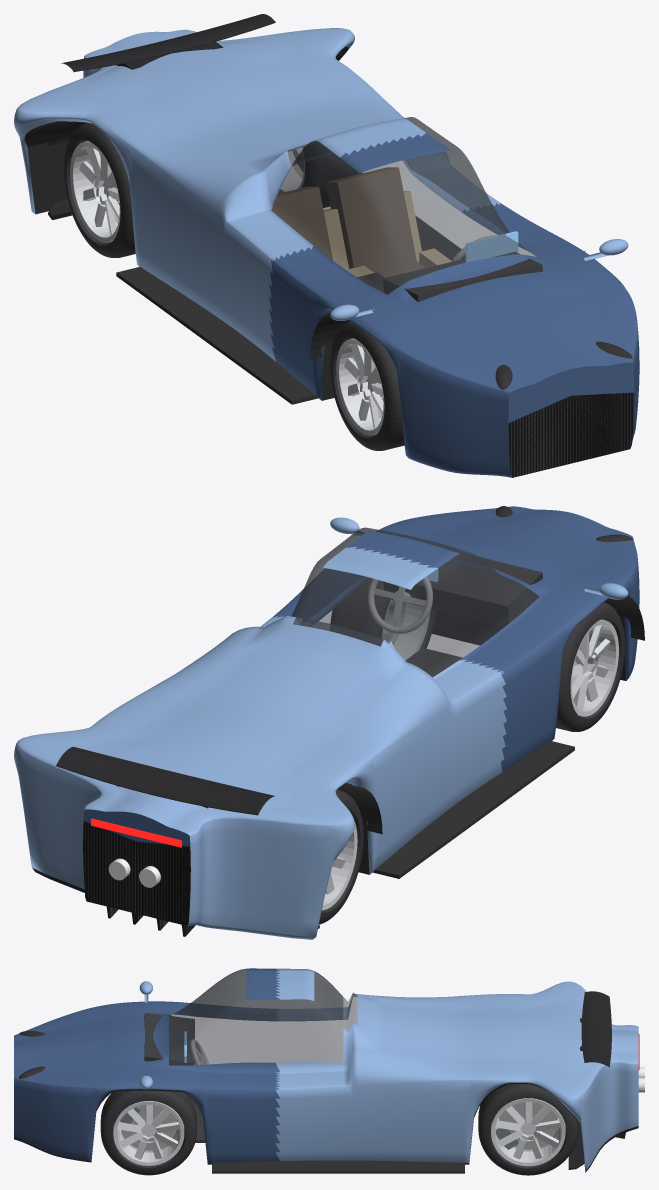
The model's file is bugatti-veyron.glb.
3 renders of one model, top to bottom at view 1: azimuth 30°, elevation 25°; view 2: azimuth 150°, elevation 25°; view 3: azimuth 270°, elevation 25°, orthographic. The views are drawn at different scales.
Visible parts, largest first — view 1: Body_PrimaryPaint, Body_SecondaryPaint, Glass_Windows, Carbon_Exterior, Interior_Seats, WheelWells, Rim_RR, Tire_FR, Rim_FR, Tire_RR, Underbody, Interior_Dashboard (+4 smaller); view 2: Body_PrimaryPaint, Body_SecondaryPaint, Glass_Windows, Carbon_Exterior, WheelWells, Interior_Dashboard, Rim_FR, Tire_FR, Underbody, Tire_FL, Interior_SteeringWheel, Rim_RR (+5 smaller); view 3: Body_PrimaryPaint, Body_SecondaryPaint, Glass_Windows, Tire_FL, Rim_RL, Tire_RL, WheelWells, Rim_FL, Carbon_Exterior, Interior_Dashboard, Underbody, BrakeDisc_RL (+2 smaller).
Part boxes in pixels (<box>): Body_PrimaryPaint: <box>14,28,628,361</box>; Body_SecondaryPaint: <box>269,133,639,477</box>; Glass_Windows: <box>271,117,536,294</box>; Carbon_Exterior: <box>48,14,634,477</box>; Interior_Seats: <box>271,167,425,277</box>; WheelWells: <box>47,121,585,404</box>; Rim_RR: <box>70,141,120,242</box>; Tire_FR: <box>330,321,404,450</box>; Rim_FR: <box>336,338,384,435</box>; Tire_RR: <box>63,123,135,257</box>; Underbody: <box>24,47,348,400</box>; Interior_Dashboard: <box>383,252,542,301</box>; Body_PrimaryPaint: <box>14,517,628,939</box>; Body_SecondaryPaint: <box>83,506,639,846</box>; Glass_Windows: <box>291,527,539,676</box>; Carbon_Exterior: <box>56,746,319,936</box>; WheelWells: <box>337,595,644,878</box>; Interior_Dashboard: <box>383,550,542,626</box>; Rim_FR: <box>570,619,618,716</box>; Tire_FR: <box>556,602,625,731</box>; Underbody: <box>32,610,626,925</box>; Tire_FL: <box>330,577,435,649</box>; Interior_SteeringWheel: <box>367,576,432,633</box>; Rim_RR: <box>322,821,357,910</box>; Body_PrimaryPaint: <box>139,968,638,1170</box>; Body_SecondaryPaint: <box>14,968,279,1162</box>; Glass_Windows: <box>169,968,357,1065</box>; Tire_FL: <box>100,1090,196,1175</box>; Rim_RL: <box>491,1098,565,1166</box>; Tire_RL: <box>478,1084,578,1175</box>; WheelWells: <box>212,1160,464,1173</box>; Rim_FL: <box>113,1101,184,1165</box>; Carbon_Exterior: <box>568,991,625,1169</box>; Interior_Dashboard: <box>144,1012,194,1065</box>; Underbody: <box>14,1083,638,1172</box>; BrakeDisc_RL: <box>498,1102,557,1151</box>.
Bounding box in the file's own units: 2 × 1.2 × 4.51.
Materials: 17 (2 with a texture image).
